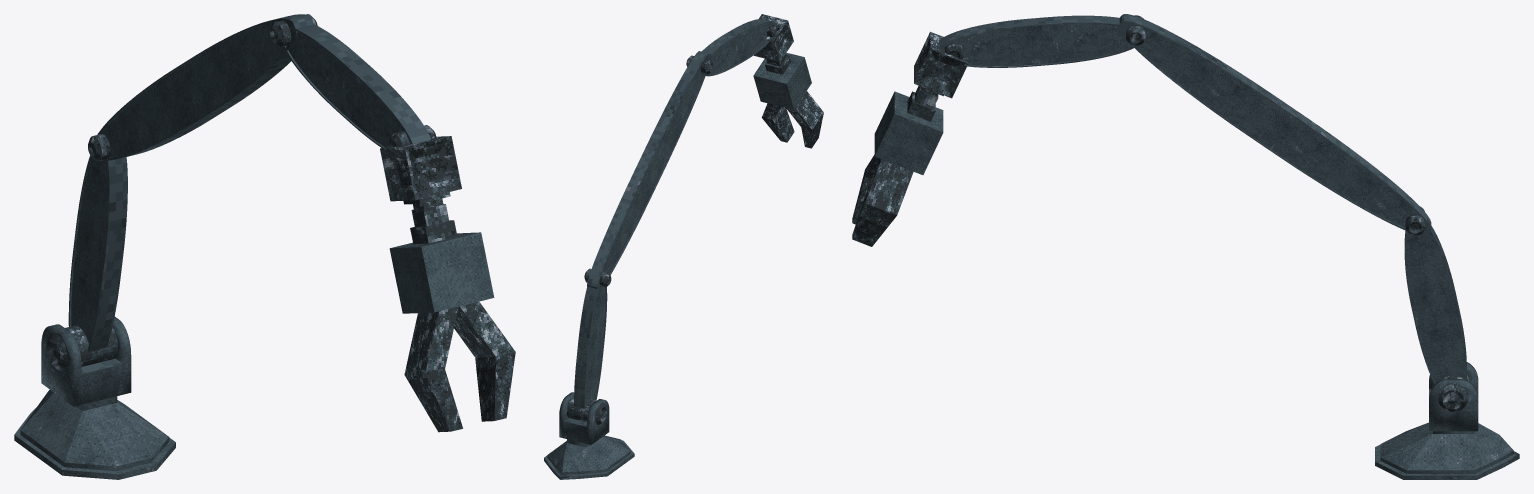
The model's file is ClawArm.fbx.
3 views of the same model, side by side, from view 1: azimuth 30°, elevation 25°; view 2: azimuth 150°, elevation 25°; view 3: azimuth 270°, elevation 25° (orthographic). The views are drawn at different scales.
Parts seen in each view (by area): view 1: ClawArm; view 2: ClawArm; view 3: ClawArm.
Boxes of the visible parts, box(x1,y1,x2,y2) form: ClawArm: box(14, 14, 515, 479); ClawArm: box(544, 14, 823, 479); ClawArm: box(852, 14, 1519, 479).
Size of the model in its own units: 445 by 2951 by 2154.
3 materials, 3 textured.
